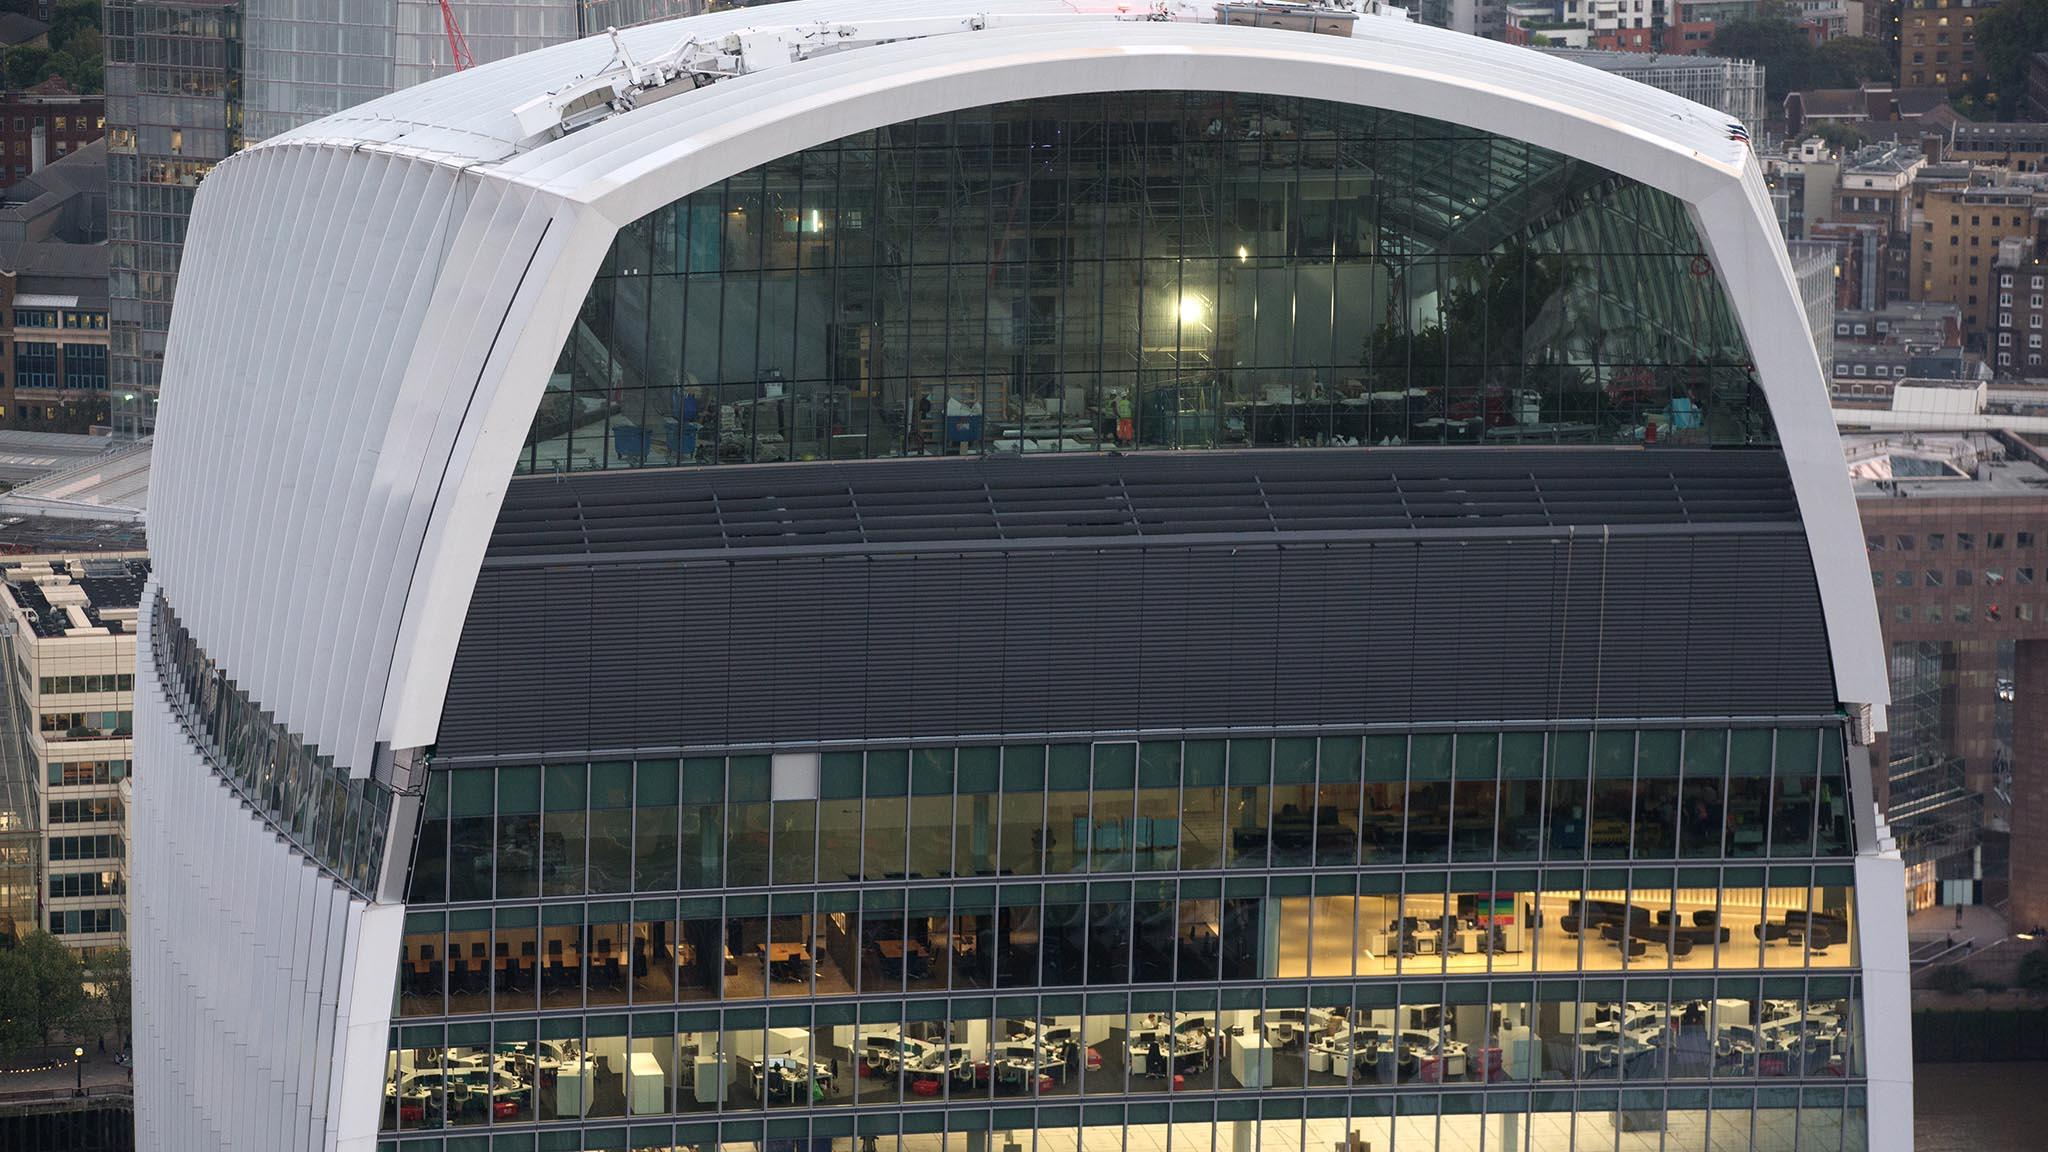Walkie talkie: (136, 6, 1968, 1144)
